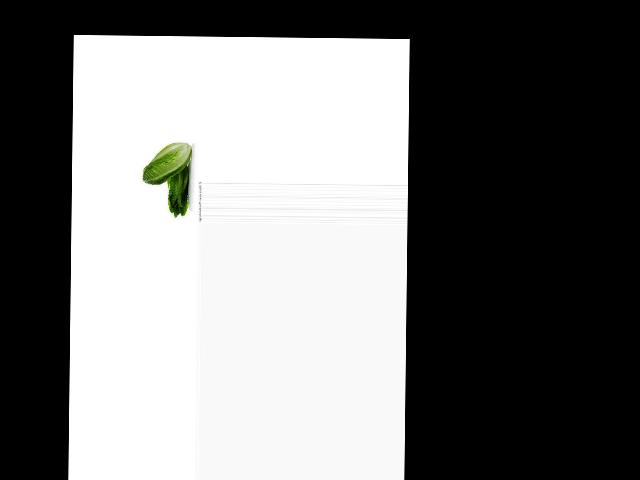lettuce: (162, 165, 195, 217)
